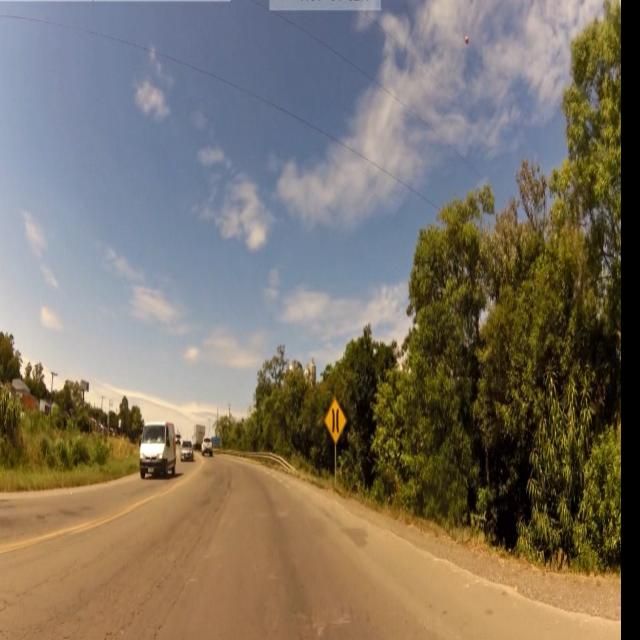A-22: (323, 398, 347, 444)
